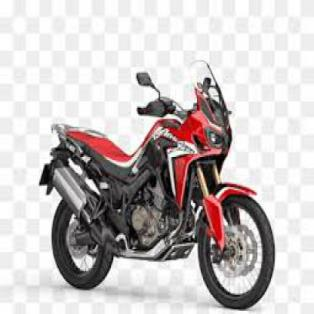Motocicleta: (34, 61, 278, 310)
